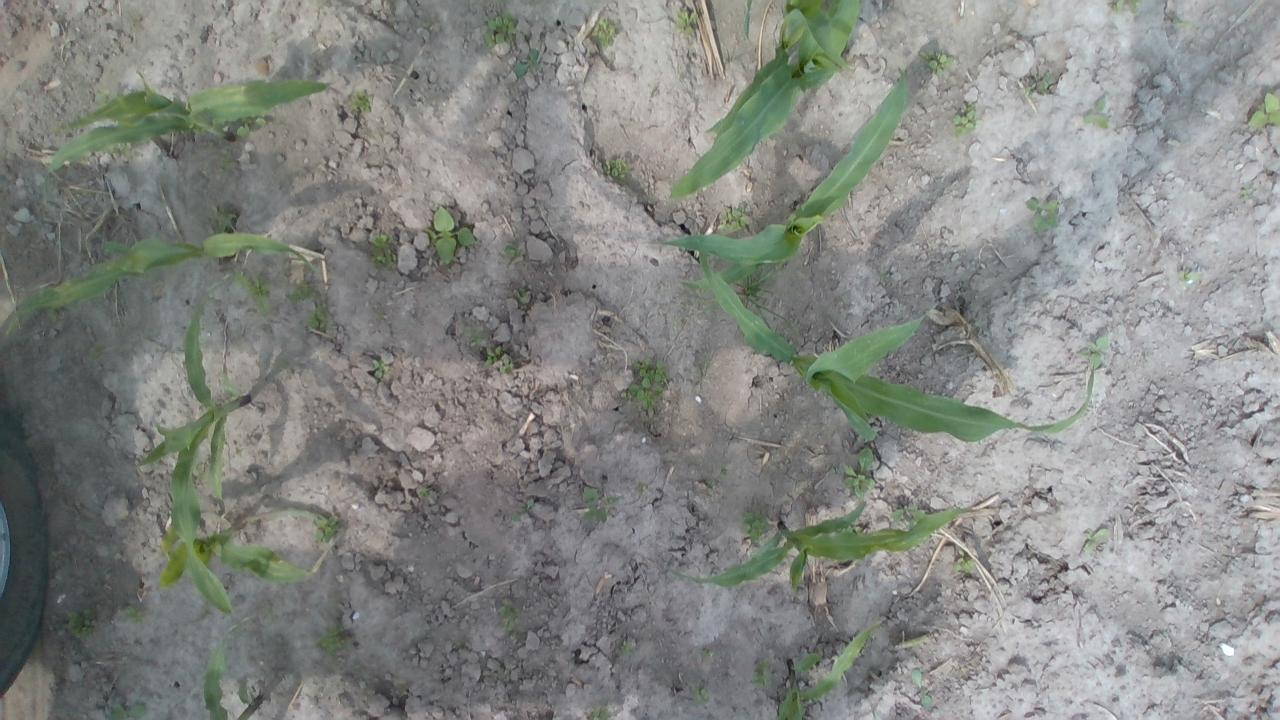Maize: (696, 252, 1100, 441), (651, 78, 910, 270), (668, 0, 862, 203), (4, 232, 318, 348), (136, 308, 252, 616), (45, 78, 329, 174), (670, 498, 960, 586), (154, 517, 313, 590), (773, 622, 883, 718), (202, 646, 268, 720)
Weeds: (424, 206, 476, 261), (624, 359, 668, 412), (844, 446, 878, 496), (582, 486, 622, 523), (1026, 197, 1062, 232), (1247, 90, 1280, 128), (744, 512, 774, 546), (919, 49, 955, 76), (368, 232, 396, 266), (1085, 95, 1110, 130), (482, 17, 512, 45), (1080, 527, 1110, 554), (317, 624, 348, 650), (911, 668, 932, 706), (486, 346, 514, 374), (310, 514, 338, 542), (1021, 73, 1054, 95), (242, 274, 272, 298), (722, 202, 749, 228), (66, 607, 92, 632), (514, 46, 534, 78), (954, 104, 974, 136), (590, 22, 614, 48), (212, 208, 236, 234), (678, 8, 697, 40), (1086, 338, 1108, 364), (604, 157, 628, 180), (110, 706, 149, 720), (750, 657, 768, 687), (464, 322, 484, 348), (349, 92, 371, 114), (288, 283, 312, 303), (498, 605, 518, 629), (952, 552, 976, 572), (126, 606, 152, 624), (1108, 0, 1140, 14), (310, 310, 328, 330), (694, 682, 708, 706), (1168, 12, 1192, 24), (515, 498, 534, 513), (373, 358, 386, 377), (1178, 269, 1195, 283), (588, 710, 610, 720), (502, 245, 516, 258), (238, 124, 250, 138), (415, 485, 430, 496), (1242, 185, 1256, 194), (256, 117, 266, 126), (621, 642, 629, 652), (702, 648, 711, 654)
